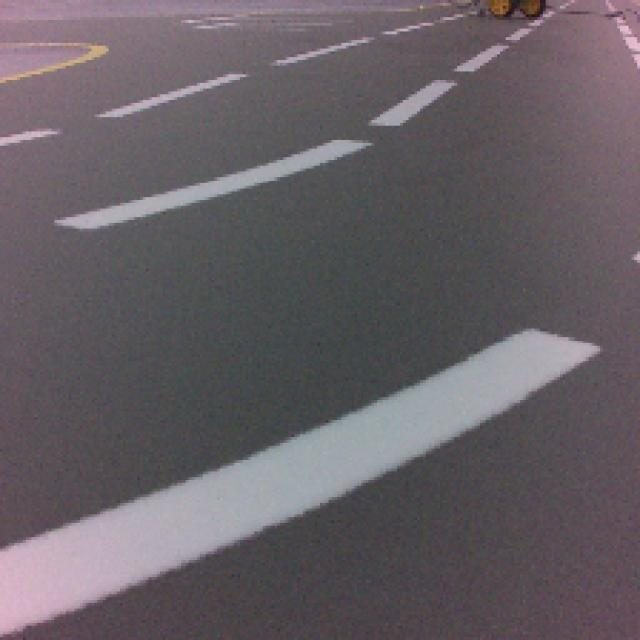Guard rail: (0, 326, 594, 637)
